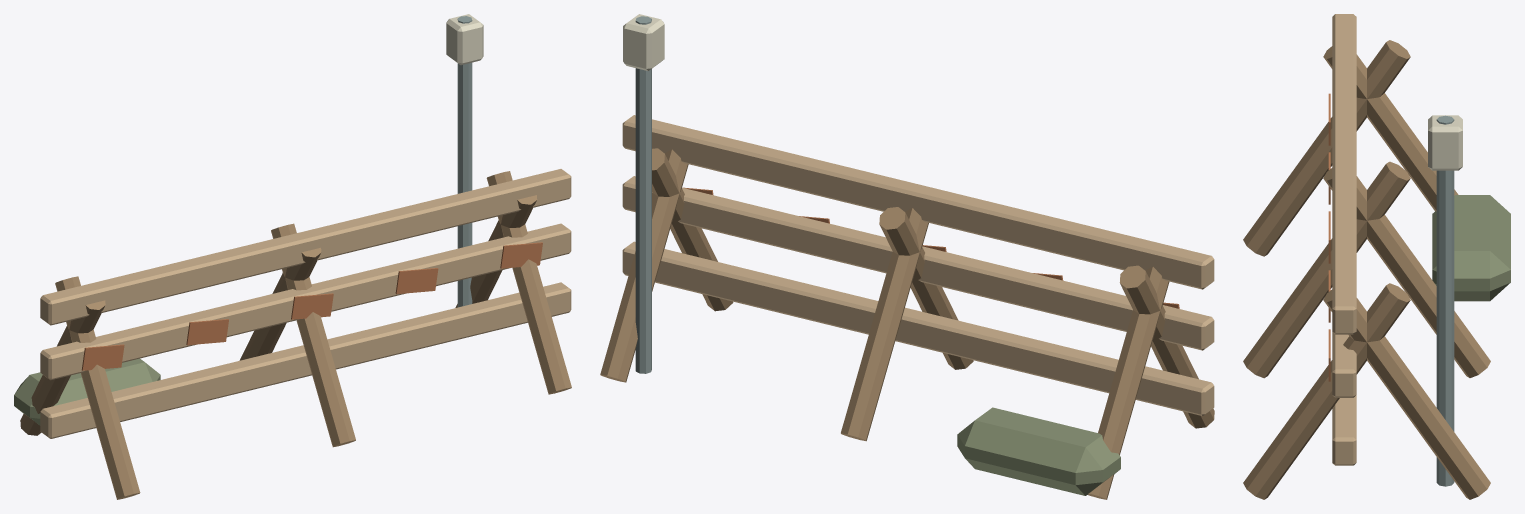
The model's file is barricade.glb.
3 renders of one model, left to right at view 1: azimuth 30°, elevation 25°; view 2: azimuth 150°, elevation 25°; view 3: azimuth 270°, elevation 25°, orthographic. The views are drawn at different scales.
Visible parts, largest first — view 1: reclaimed timber, trestle leg, warning painted slat, lamp post, watch post sandbag, lantern; view 2: reclaimed timber, trestle leg, watch post sandbag, lamp post, lantern; view 3: trestle leg, reclaimed timber, watch post sandbag, lamp post, lantern, warning painted slat.
Boxes of the visible parts, bbox=[...] form: reclaimed timber: bbox=[40, 169, 571, 438]; trestle leg: bbox=[20, 171, 571, 499]; warning painted slat: bbox=[81, 242, 542, 370]; lamp post: bbox=[457, 16, 472, 307]; watch post sandbag: bbox=[14, 358, 160, 425]; lantern: bbox=[446, 14, 483, 65]; reclaimed timber: bbox=[622, 115, 1214, 416]; trestle leg: bbox=[600, 148, 1214, 499]; watch post sandbag: bbox=[957, 407, 1120, 495]; lamp post: bbox=[635, 16, 651, 373]; lantern: bbox=[623, 14, 664, 71]; trestle leg: bbox=[1243, 40, 1490, 499]; reclaimed timber: bbox=[1332, 14, 1356, 465]; watch post sandbag: bbox=[1432, 195, 1510, 301]; lamp post: bbox=[1436, 115, 1454, 486]; lantern: bbox=[1428, 115, 1462, 170]; warning painted slat: bbox=[1328, 93, 1330, 381].
Size of the model in its own units: 4 by 2.35 by 1.54.
